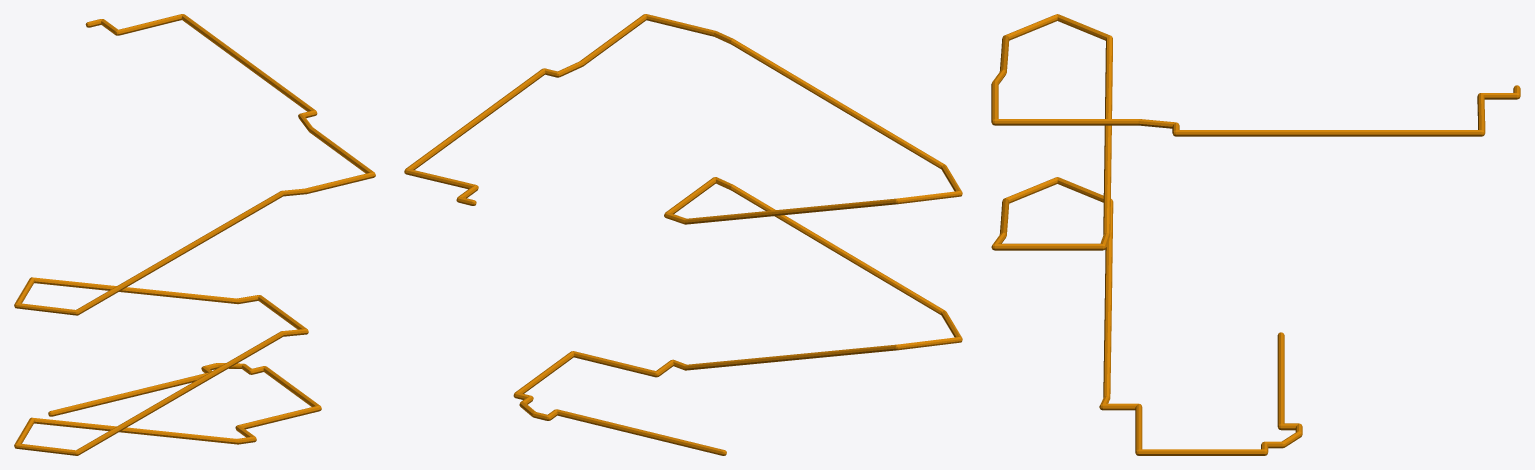
3 renders of one model, left to right at view 1: azimuth 30°, elevation 25°; view 2: azimuth 150°, elevation 25°; view 3: azimuth 270°, elevation 25°, orthographic. The views are drawn at different scales.
Bounding box in the file's own units: 1319 × 1020 × 1472.
